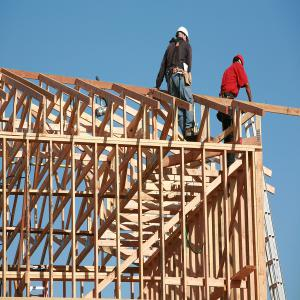red: (234, 55, 245, 69)
white: (177, 26, 191, 44)
